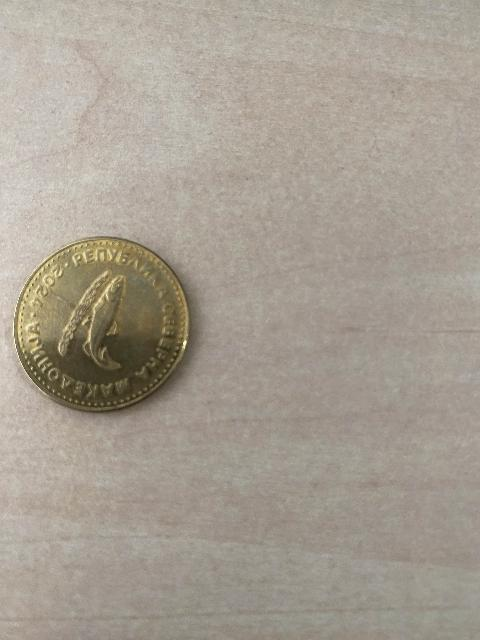2_coin: (14, 238, 189, 411)
